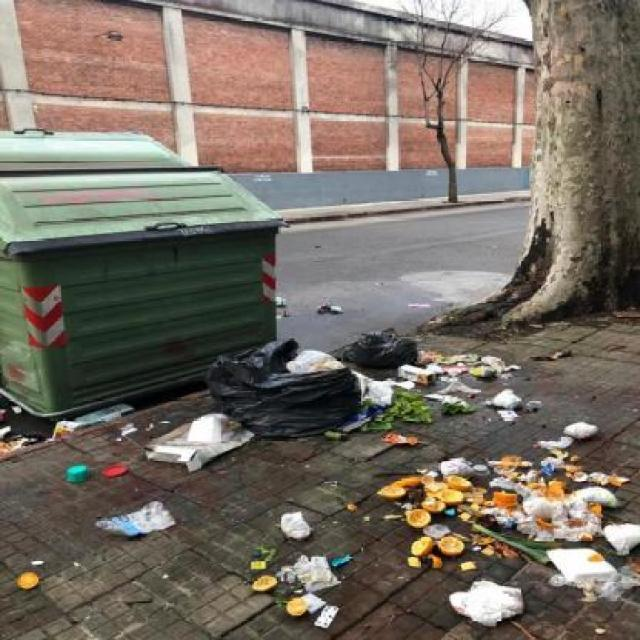garbage: (191, 294, 638, 640), (0, 357, 481, 640)
